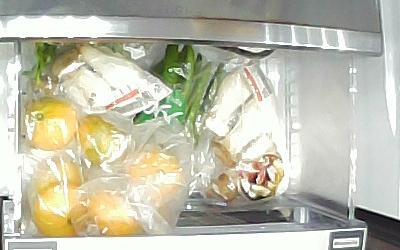tangerine_vinyl: (128, 150, 182, 209), (31, 181, 86, 238), (24, 99, 78, 152), (79, 116, 131, 170), (78, 192, 140, 236), (29, 155, 82, 196)
